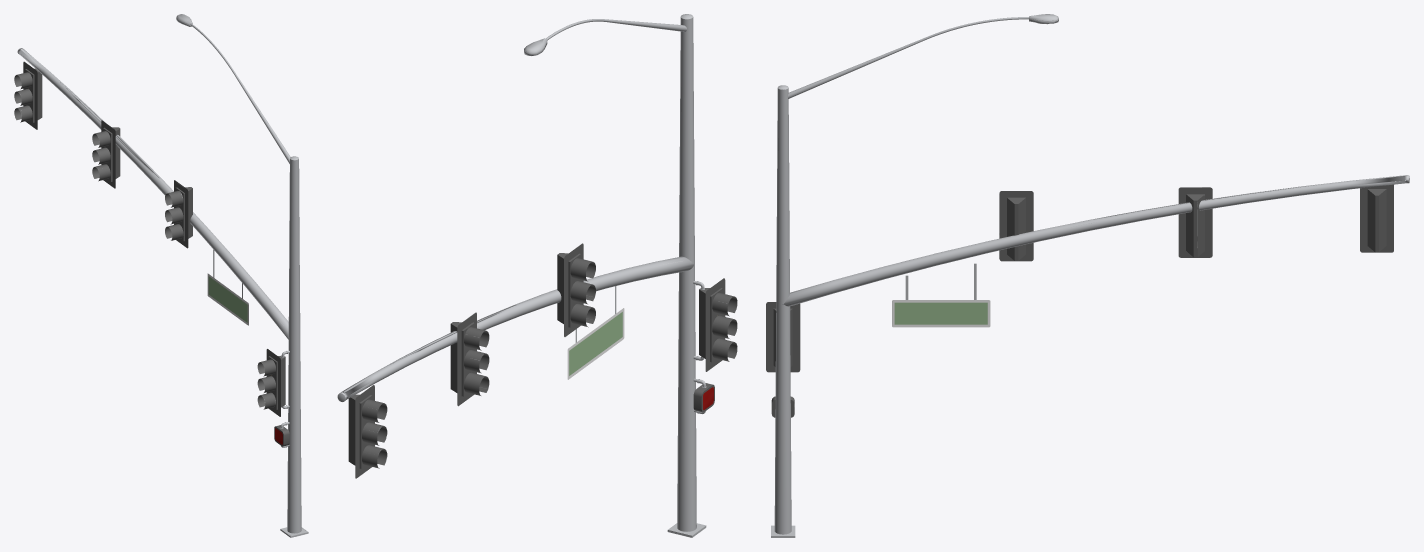
Rendered from Traffic Signal 3.fbx.
The picture shows the model from 3 angles, left to right: view 1: azimuth 30°, elevation 25°; view 2: azimuth 150°, elevation 25°; view 3: azimuth 270°, elevation 25°; orthographic projection. The views are drawn at different scales.
Visible parts, largest first — view 1: Mesh1 Component_6_1 Component_14_1 Component_9_1 Component_8; view 2: Mesh1 Component_6_1 Component_14_1 Component_9_1 Component_8; view 3: Mesh1 Component_6_1 Component_14_1 Component_9_1 Component_8.
Boxes of the visible parts, left/top/right/bottom form: Mesh1 Component_6_1 Component_14_1 Component_9_1 Component_8: left=14, top=14, right=308, bottom=537; Mesh1 Component_6_1 Component_14_1 Component_9_1 Component_8: left=337, top=14, right=737, bottom=537; Mesh1 Component_6_1 Component_14_1 Component_9_1 Component_8: left=766, top=14, right=1409, bottom=537.
Size of the model in its own units: 108 by 1061 by 1198.
1 material, 1 textured.
